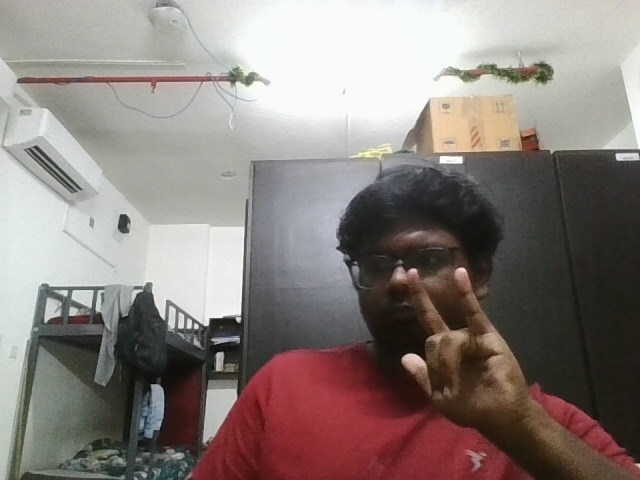I Love You: (382, 256, 558, 439)
